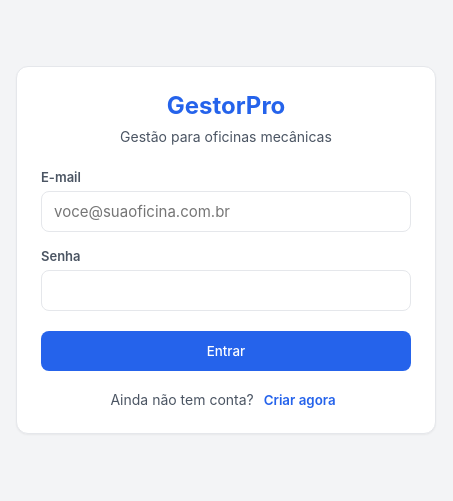
Test: Login › alterna para o cadastro e passa a pedir o nome
Expected: the field labelled "Seu nome" is not shown
Click the button "Criar agora" at (300, 400), box [258,391,342,409]
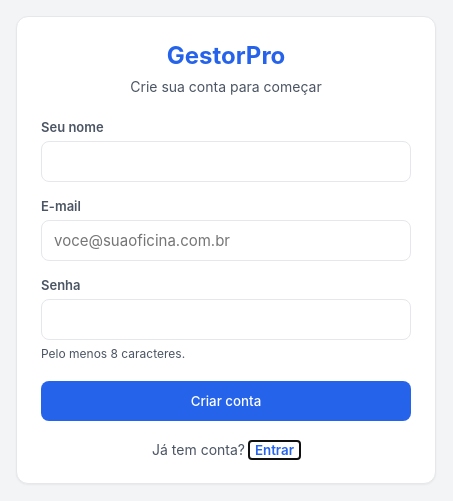
Expected: the field labelled "Seu nome" is shown, [41,141,411,182]
Expected: the button "Criar conta" is shown, [41,381,411,421]
